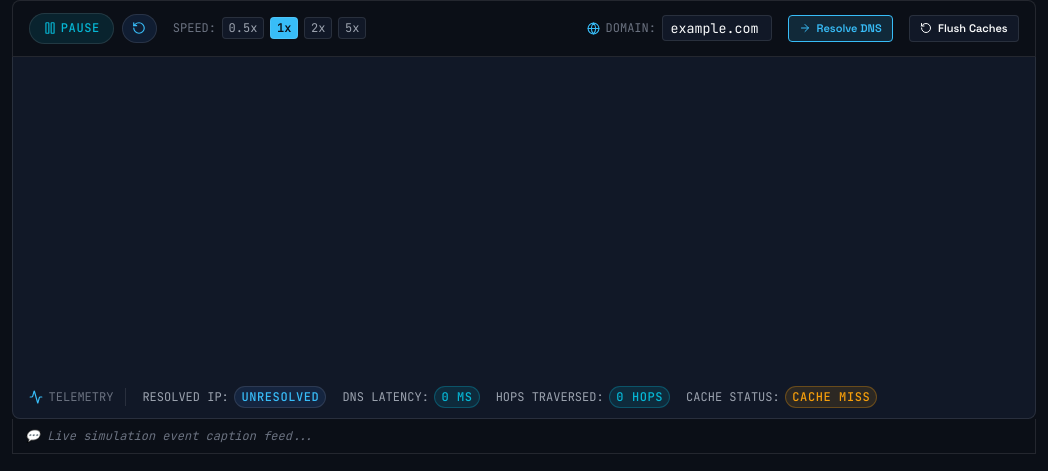
Scenario: DnsVisualizer (Catalog Viz #13) › handles Flush Caches button click
Click the button "Flush Caches": [964, 28] box [909,15,1019,42]
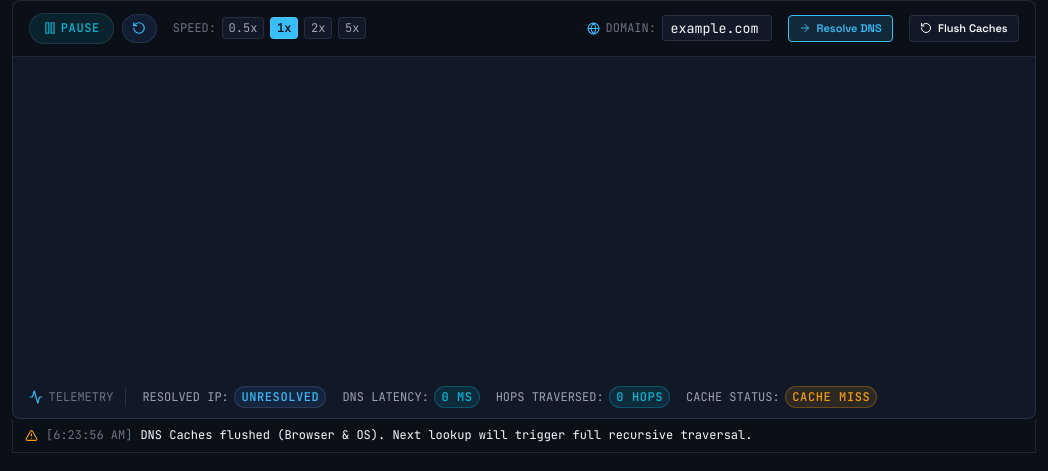
Expected: the text "DNS Caches flushed" is shown, [140,427,752,443]
